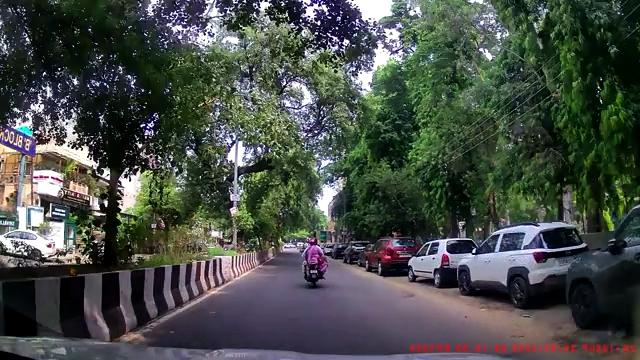passenger_with_helmet: (301, 235, 328, 287)
